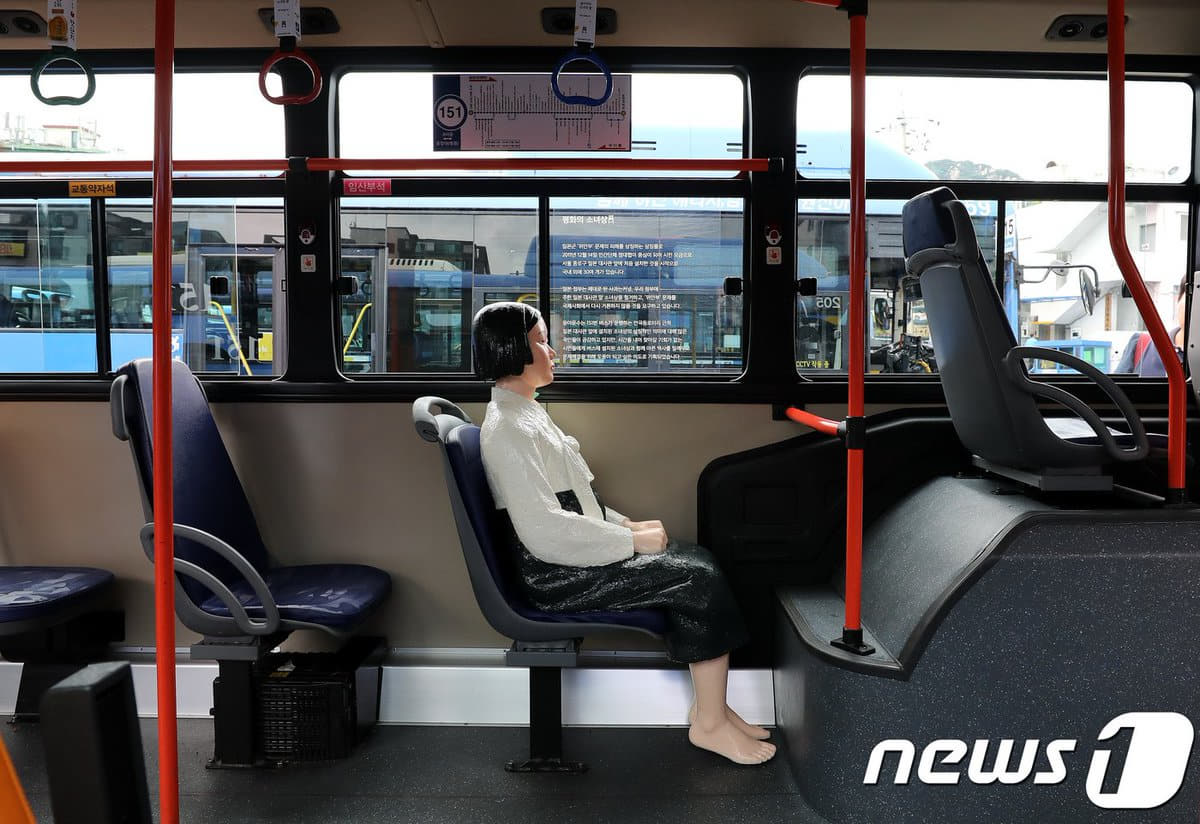seat: (113, 349, 399, 676)
